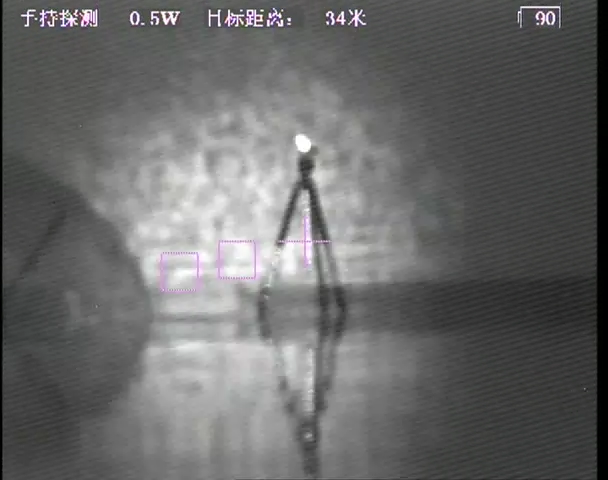my: (293, 135, 314, 155)
